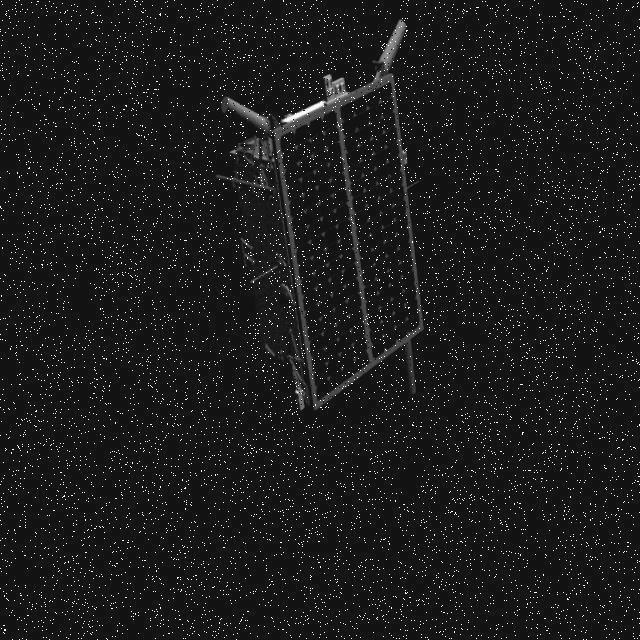satellite: (222, 18, 448, 422)
